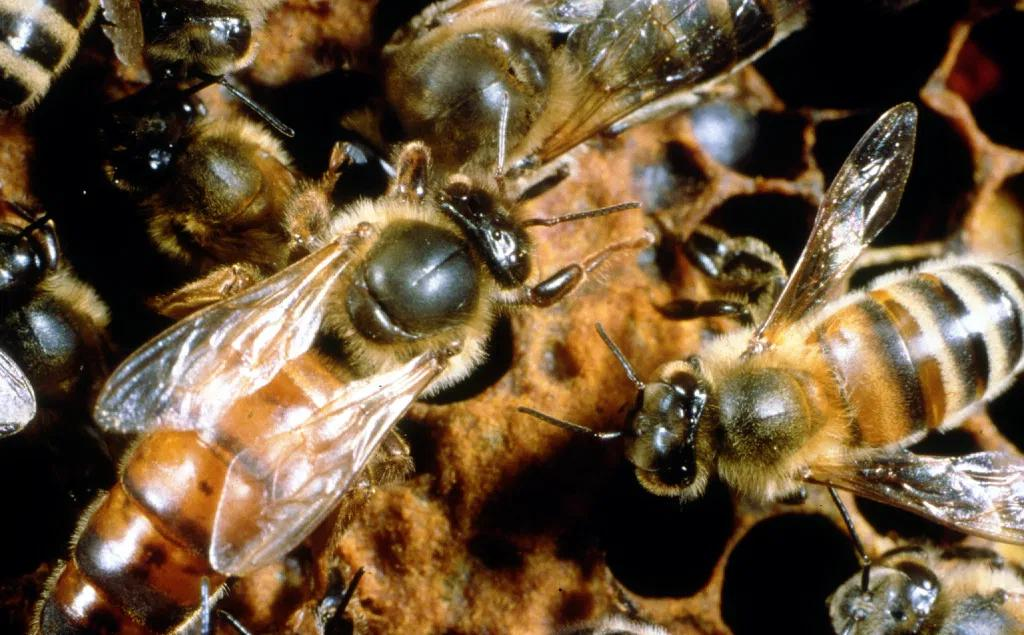Queen-Bee: (37, 144, 641, 634)
worker-bee: (521, 103, 1023, 543)
